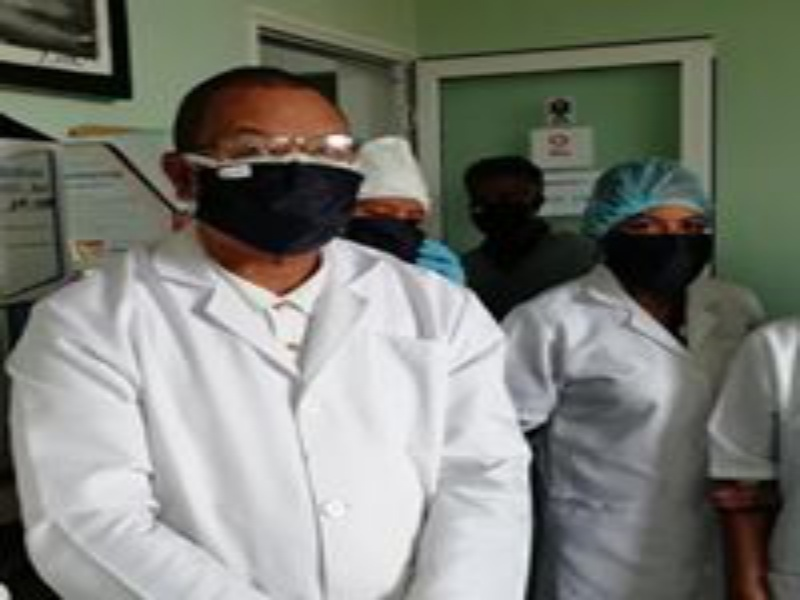ManaoArotava: (162, 63, 371, 273), (586, 152, 729, 308)
